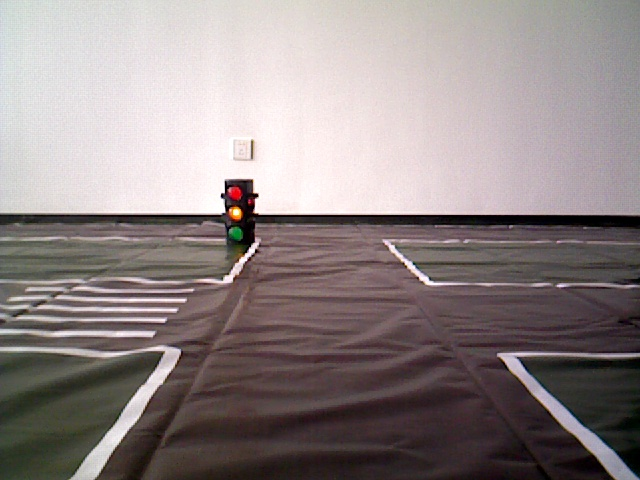yellow: (225, 176, 255, 248)
